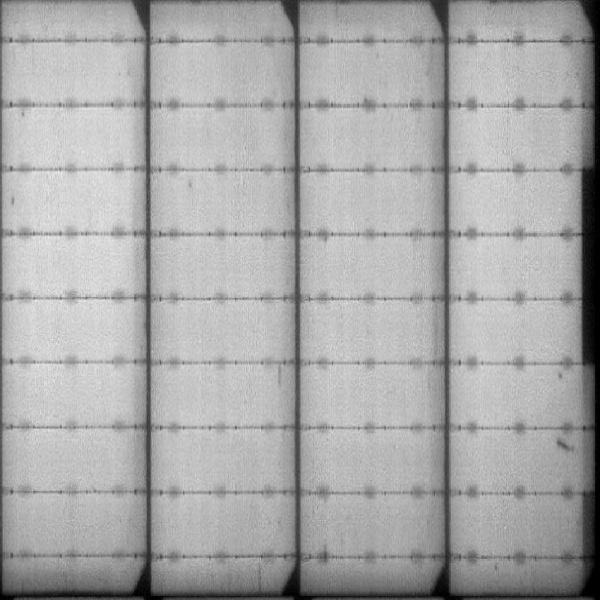black_border: (574, 151, 599, 364), (575, 484, 599, 587)
scratch: (553, 436, 578, 456)
